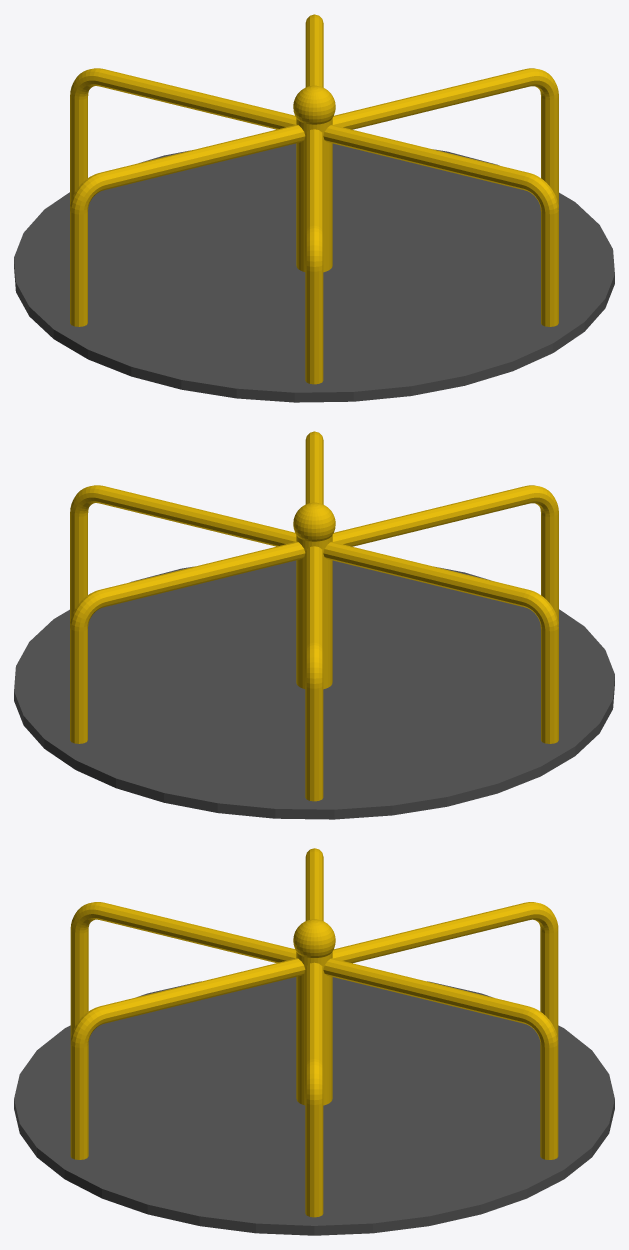
Rendered from merry-go.fbx.
3 renders of one model, top to bottom at view 1: azimuth 30°, elevation 25°; view 2: azimuth 150°, elevation 25°; view 3: azimuth 270°, elevation 25°, orthographic.
Parts seen in each view (by area): view 1: BaseTop, Plane, Center, Sphere; view 2: BaseTop, Plane, Center, Sphere; view 3: BaseTop, Plane, Center, Sphere.
Part boxes in pixels (x1,y1,x2,y2): BaseTop: (14,143,614,402); Plane: (70,14,558,384); Center: (296,118,332,272); Sphere: (293,85,335,124); BaseTop: (14,560,614,819); Plane: (70,431,558,801); Center: (296,535,332,689); Sphere: (293,502,335,541); BaseTop: (14,977,614,1235); Plane: (70,848,558,1217); Center: (296,952,332,1105); Sphere: (293,919,335,957).
Bounding box in the file's own units: 667 × 264 × 667.
